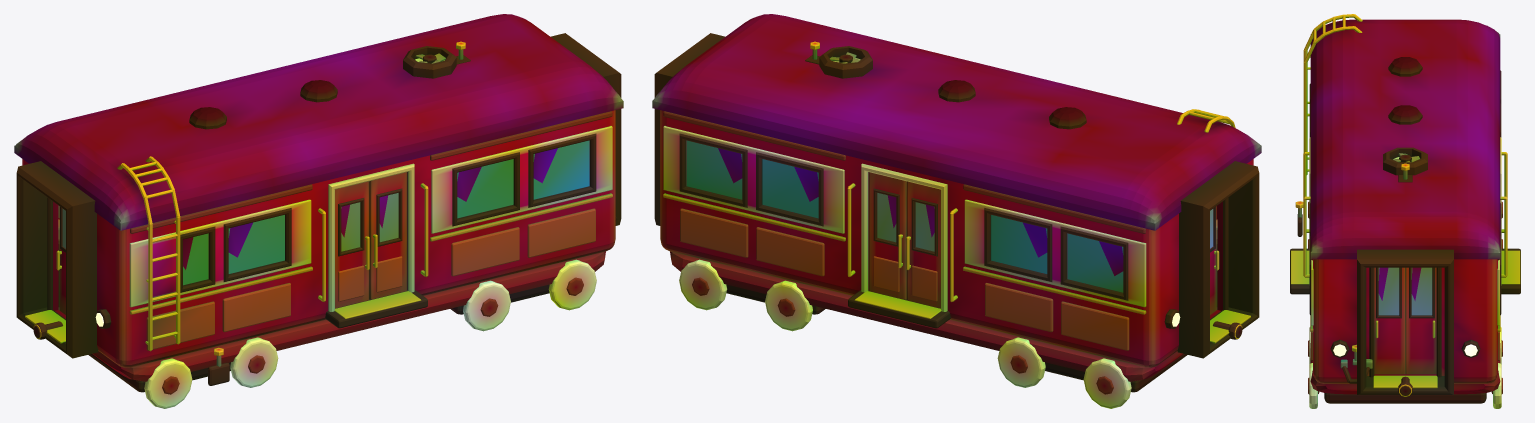
The model's file is DieselCoach_Doors_Blockout.fbx.
The picture shows the model from 3 angles, left to right: view 1: azimuth 30°, elevation 25°; view 2: azimuth 150°, elevation 25°; view 3: azimuth 270°, elevation 25°; orthographic projection. The views are drawn at different scales.
Parts seen in each view (by area): view 1: Roof, Body, Windows, Underframe, Ends, Livery, WindowBand, SideDoorLeaf_R, SideDoorLeaf_L, RoofLadder, SideDoorSill, SideDoorFrame (+1 smaller); view 2: Roof, Body, Windows, Underframe, Ends, Livery, WindowBand, SideDoorLeaf_R_Far, SideDoorLeaf_L_Far, SideDoorSill_Far, SideDoorFrame_Far, EndDoorLeaf_L_Rear; view 3: Roof, Body, Ends, EndDoorLeaf_L_Front, EndDoorLeaf_R_Front, Underframe, SideDoorSill, SideDoorSill_Far, RoofLadder, Windows, WindowBand, Coupler_Front.
Boxes of the visible parts, <box> form: Roof: <box>14,14,623,230</box>; Body: <box>22,110,615,367</box>; Windows: <box>58,133,596,292</box>; Underframe: <box>88,251,605,408</box>; Ends: <box>16,33,621,358</box>; Livery: <box>129,111,612,350</box>; WindowBand: <box>129,126,612,307</box>; SideDoorLeaf_R: <box>369,172,406,299</box>; SideDoorLeaf_L: <box>335,181,369,308</box>; RoofLadder: <box>117,156,180,351</box>; SideDoorSill: <box>318,183,428,328</box>; SideDoorFrame: <box>328,163,414,311</box>; Roof: <box>652,14,1261,230</box>; Body: <box>660,110,1253,367</box>; Windows: <box>679,133,1128,300</box>; Underframe: <box>670,251,1187,408</box>; Ends: <box>654,33,1259,358</box>; Livery: <box>663,111,1146,350</box>; WindowBand: <box>663,126,1146,307</box>; SideDoorLeaf_R_Far: <box>869,172,906,299</box>; SideDoorLeaf_L_Far: <box>906,181,940,308</box>; SideDoorSill_Far: <box>847,183,957,328</box>; SideDoorFrame_Far: <box>861,163,947,311</box>; EndDoorLeaf_L_Rear: <box>1210,206,1219,314</box>; Roof: <box>1310,19,1500,259</box>; Body: <box>1313,259,1497,383</box>; Ends: <box>1330,249,1480,394</box>; EndDoorLeaf_L_Front: <box>1374,267,1405,374</box>; EndDoorLeaf_R_Front: <box>1405,267,1436,374</box>; Underframe: <box>1308,202,1502,408</box>; SideDoorSill: <box>1290,152,1310,294</box>; SideDoorSill_Far: <box>1500,152,1520,294</box>; RoofLadder: <box>1303,14,1362,174</box>; Windows: <box>1309,70,1501,315</box>; WindowBand: <box>1311,260,1499,325</box>; Coupler_Front: <box>1398,376,1412,396</box>.
Bounding box in the file's own units: 8.16 × 3.33 × 3.24.
